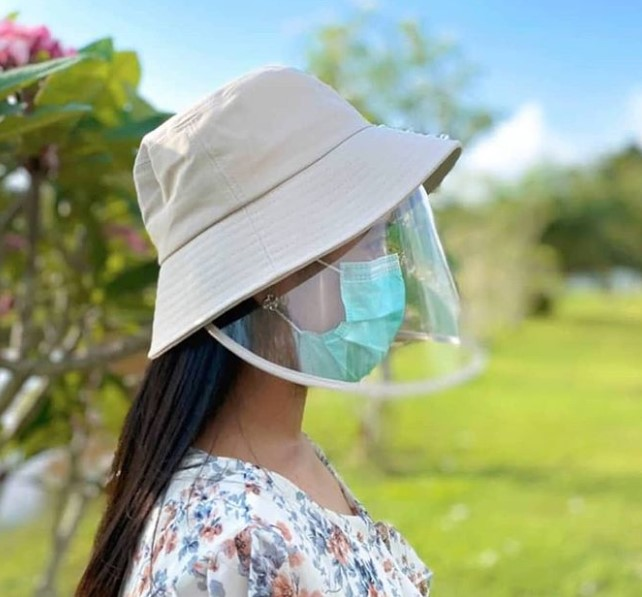face_with_mask: (133, 67, 486, 407)
